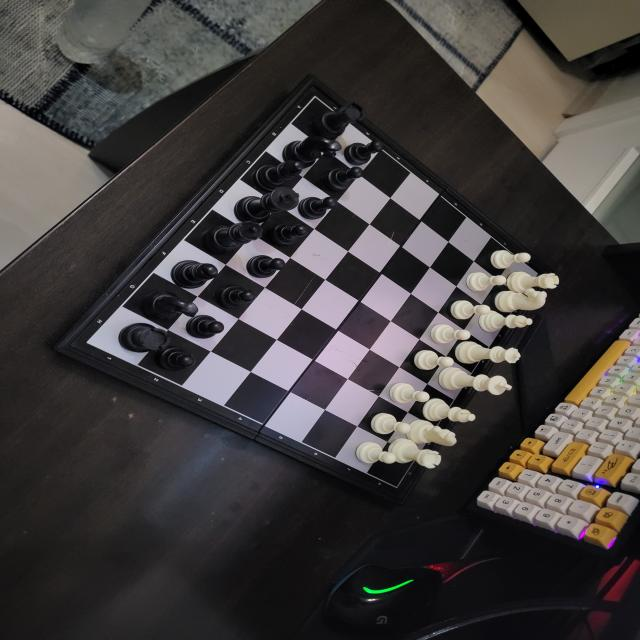black-bishop: (167, 260, 221, 290), (252, 159, 306, 187)
black-king: (232, 185, 300, 223)
black-knight: (281, 136, 343, 166), (141, 292, 199, 321)
black-pawn: (342, 138, 387, 166), (213, 285, 260, 311), (316, 166, 364, 191), (156, 346, 198, 374), (296, 195, 340, 220), (268, 222, 312, 247), (183, 314, 226, 339), (246, 254, 288, 279)
black-queen: (200, 220, 264, 254)
black-rook: (308, 100, 368, 138), (117, 321, 171, 356)
chess-board: (81, 86, 556, 497)
white-bishop: (422, 398, 476, 426), (478, 310, 534, 333)
white-king: (438, 367, 513, 397)
white-knight: (406, 419, 456, 449), (494, 288, 549, 312)
white-pawn: (350, 441, 398, 466), (367, 412, 413, 437), (485, 248, 532, 270), (387, 382, 431, 404), (428, 324, 472, 345), (465, 271, 507, 292), (411, 350, 455, 370), (449, 300, 491, 320)
white-queen: (454, 341, 523, 365)
white-rook: (387, 438, 442, 470), (506, 270, 560, 292)
